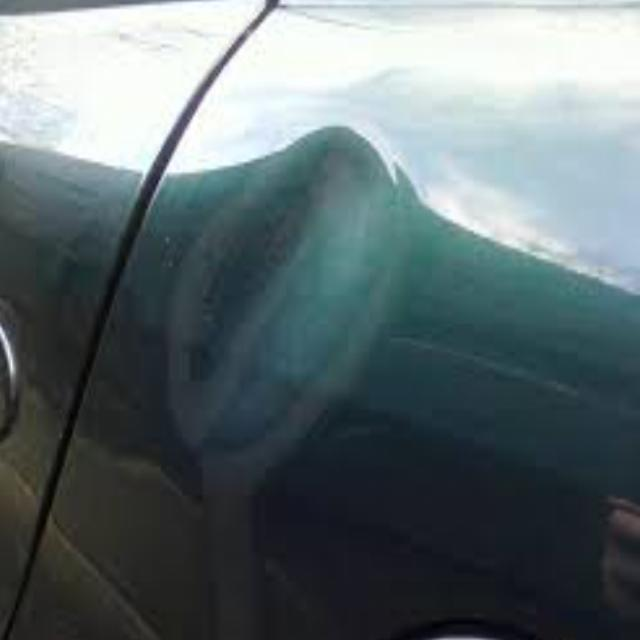dents: (142, 92, 414, 490)
